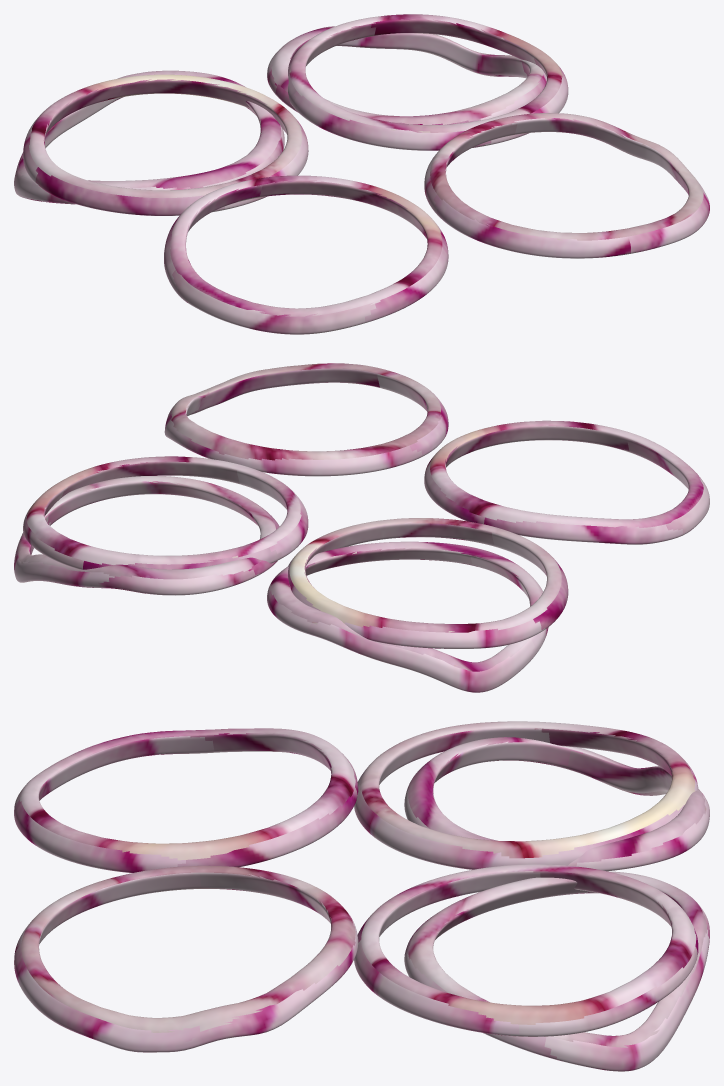
File: onion.obj
3 views of the same model, one above another, from view 1: azimuth 30°, elevation 25°; view 2: azimuth 150°, elevation 25°; view 3: azimuth 270°, elevation 25° (orthographic). The views are drawn at different scales.
Parts seen in each view (by area): view 1: ognon; view 2: ognon; view 3: ognon.
Part boxes in pixels (box(x1,y1,x2,y2)): ognon: box(14, 14, 709, 334); ognon: box(14, 363, 709, 692); ognon: box(14, 721, 709, 1071).
Bounding box in the file's own units: 1.92 × 0.2505 × 1.89.
1 material, 1 textured.
